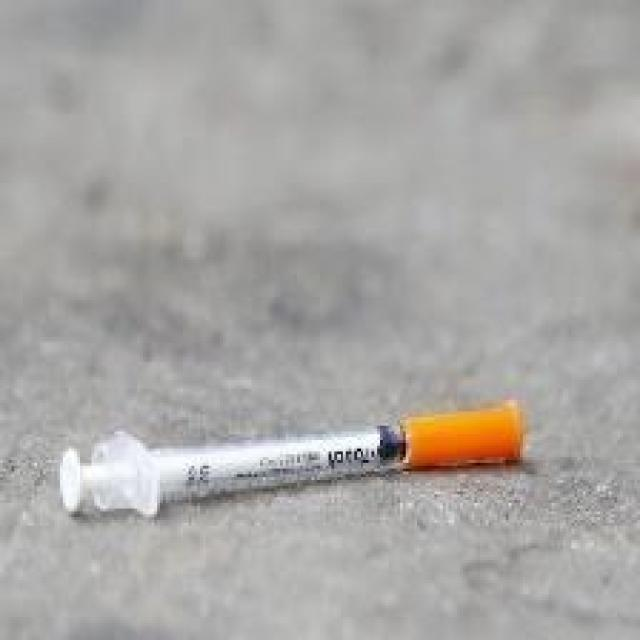syringe: (40, 414, 559, 560)
